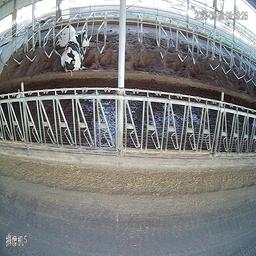cow: (61, 29, 92, 73), (57, 23, 76, 47)
